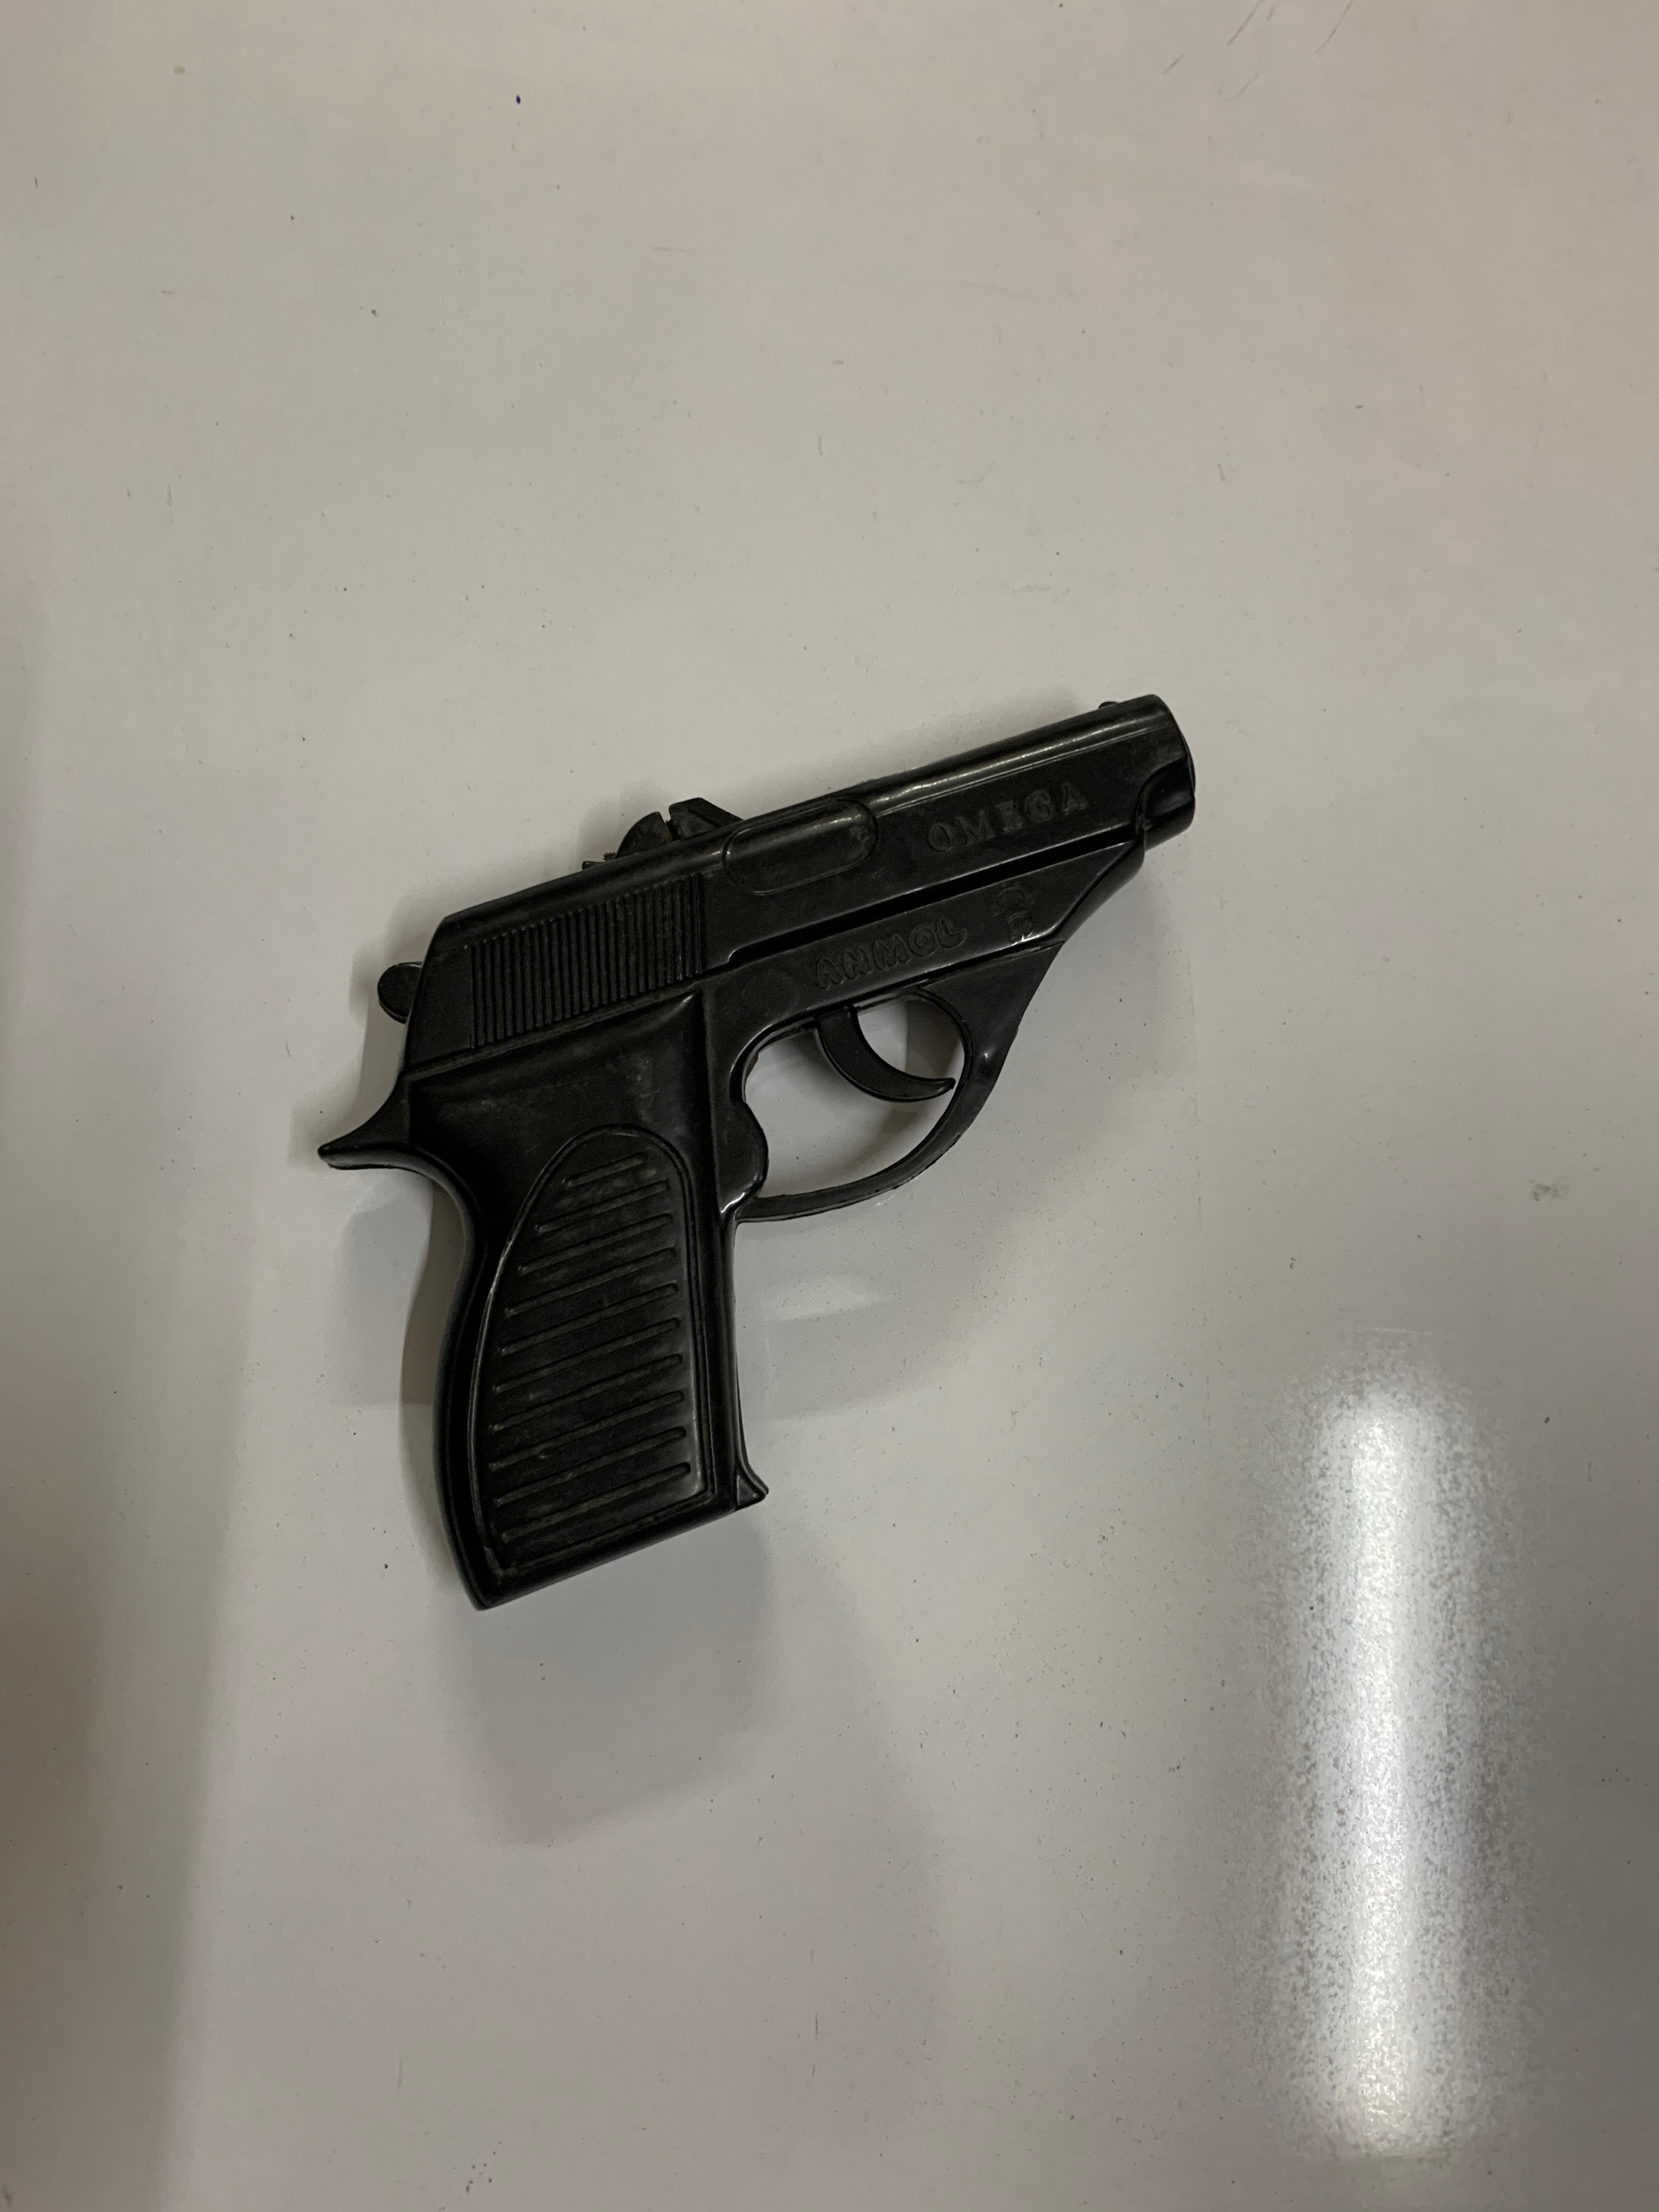gun: (310, 681, 1208, 1611)
